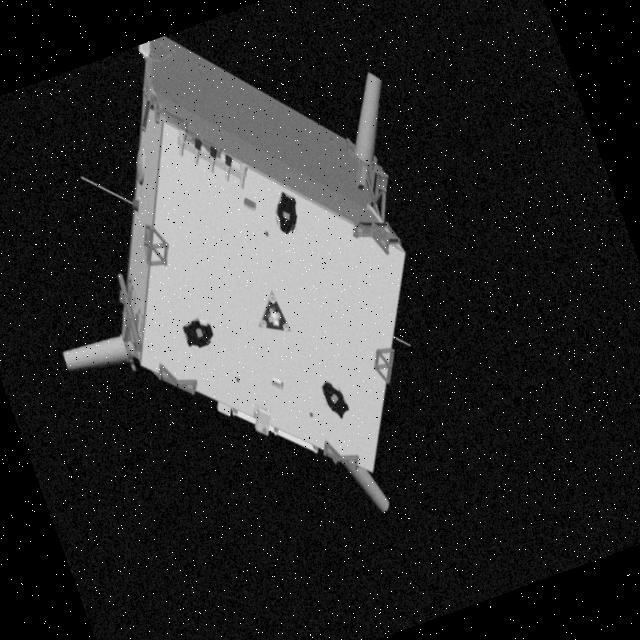satellite: (56, 26, 446, 518)
